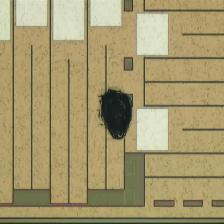PARTICLE: (99, 88, 136, 141)
